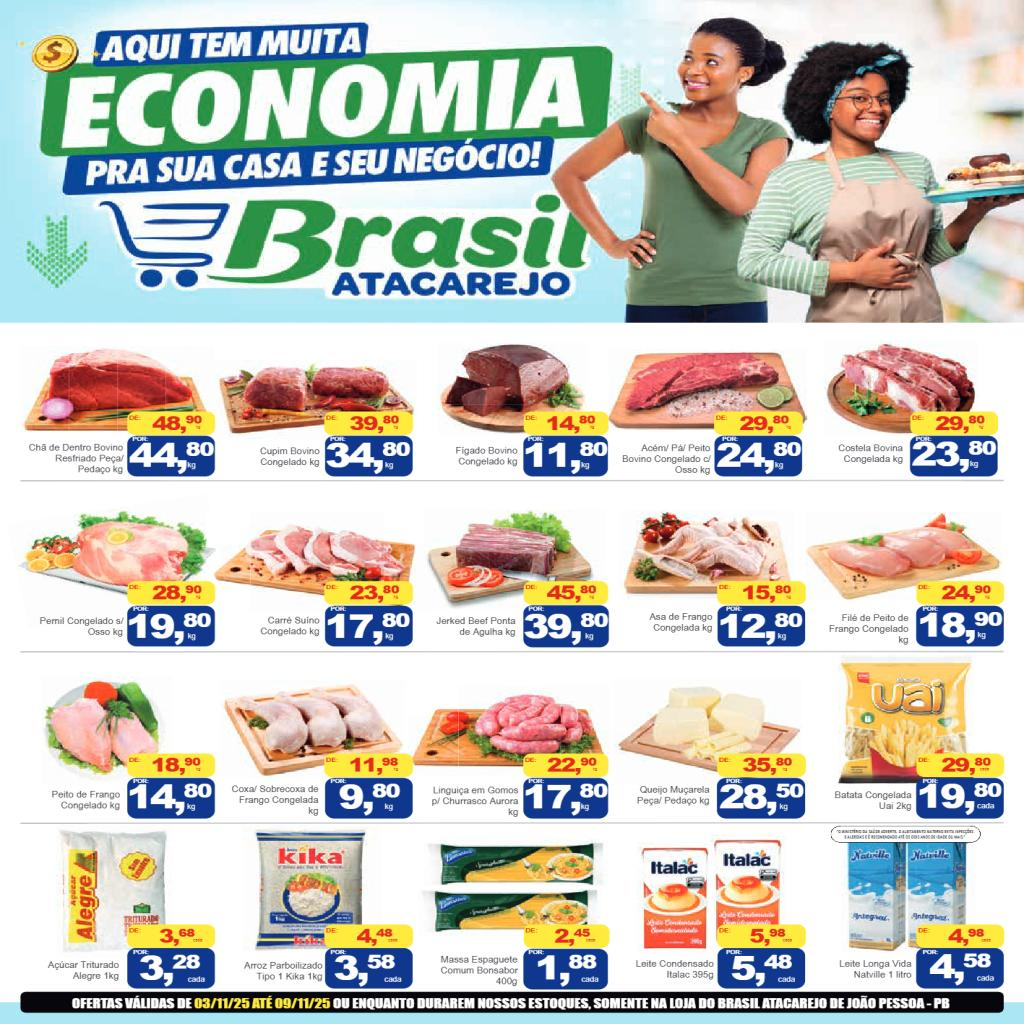price: (524, 610, 608, 646), (326, 612, 411, 647), (128, 441, 214, 475), (325, 441, 411, 475), (718, 782, 804, 816), (523, 441, 608, 475), (716, 441, 802, 474), (919, 782, 1002, 816), (717, 612, 805, 644), (128, 612, 212, 645), (128, 783, 212, 816), (525, 783, 607, 815), (928, 953, 998, 987), (136, 953, 208, 986), (727, 954, 799, 987), (332, 954, 402, 986), (336, 783, 402, 816), (535, 954, 600, 987)
product_text: (226, 781, 321, 819), (26, 442, 124, 477), (426, 783, 520, 819), (824, 610, 910, 646), (620, 442, 712, 475), (438, 953, 520, 986), (36, 614, 126, 640), (831, 788, 913, 814), (632, 956, 716, 981), (632, 783, 712, 809), (432, 614, 517, 637), (241, 960, 324, 983), (835, 956, 914, 980), (50, 787, 122, 812), (46, 958, 120, 982), (257, 444, 322, 470), (834, 442, 906, 465), (453, 444, 519, 467), (646, 611, 715, 633), (258, 614, 320, 638)
